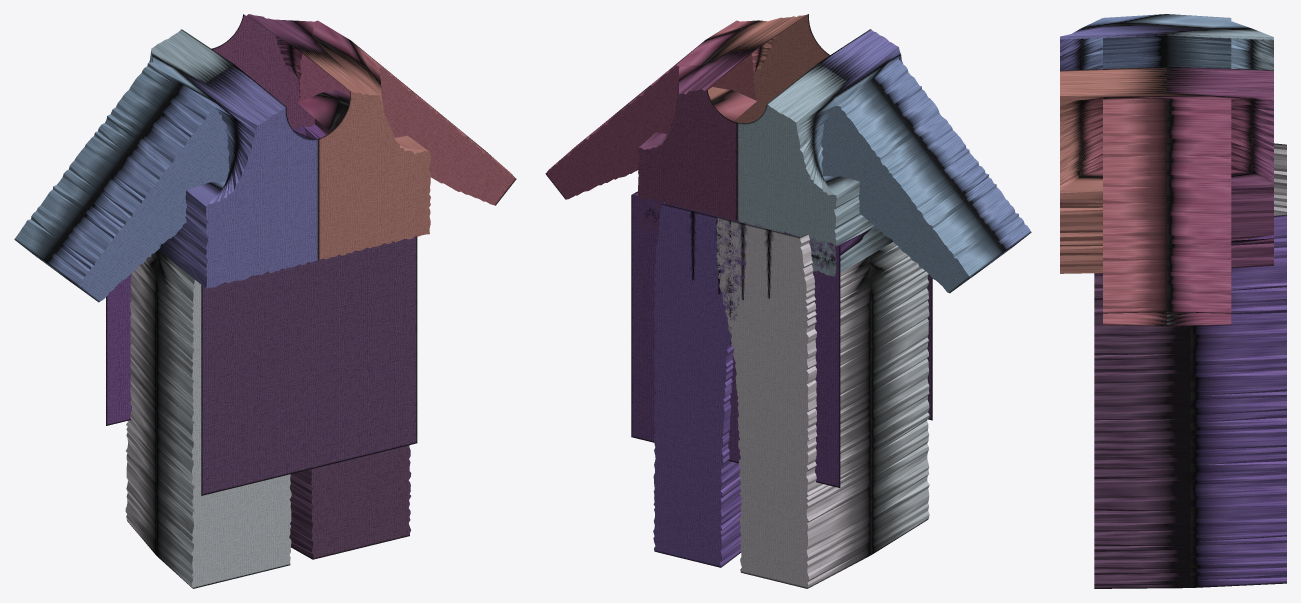
Rendered from ao_dai_boxmesh.obj.
The picture shows the model from 3 angles, left to right: view 1: azimuth 30°, elevation 25°; view 2: azimuth 150°, elevation 25°; view 3: azimuth 270°, elevation 25°; orthographic projection. The views are drawn at different scales.
Bounding box in the file's own units: 121 × 127 × 53.
Materials: 1 (1 with a texture image).
